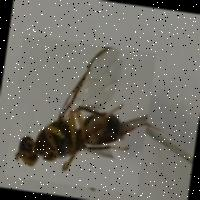Oriental-fruit-fly: (5, 34, 156, 193)
